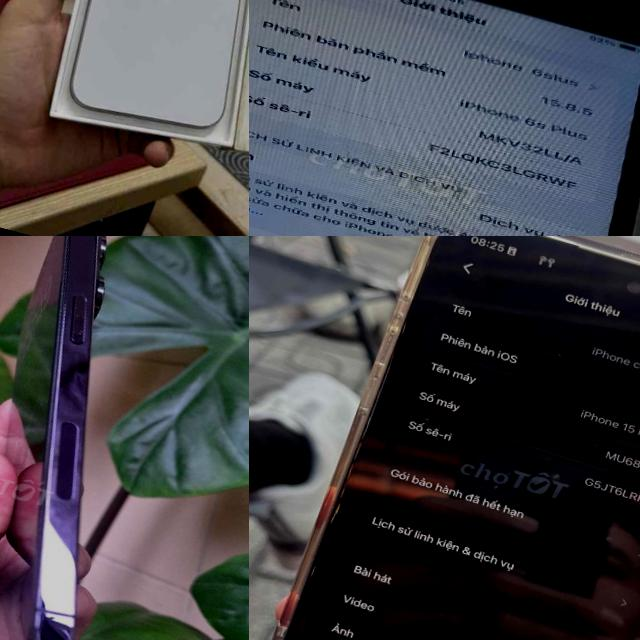gen_14: (0, 236, 196, 640)
gen_15: (249, 236, 640, 640), (42, 0, 249, 155)
gen_6: (249, 0, 640, 236)
